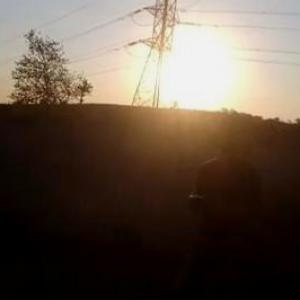follow: (185, 110, 266, 299)
